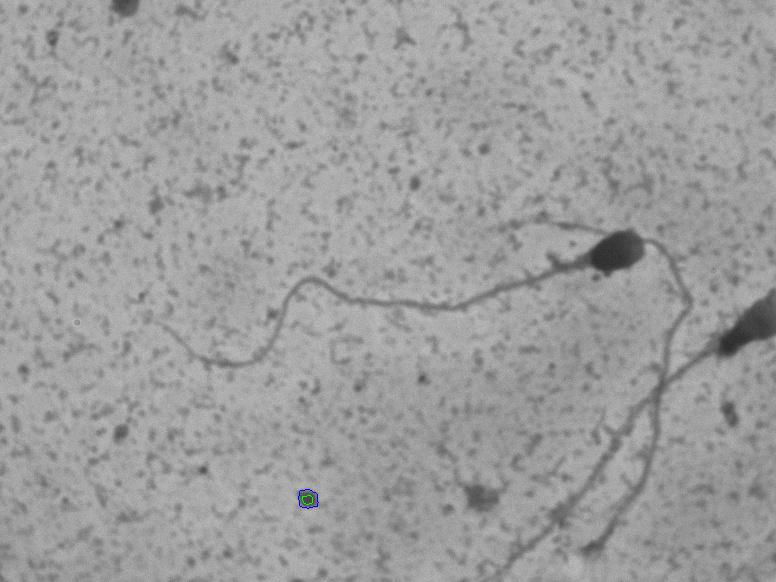Normal: (146, 215, 649, 386)
